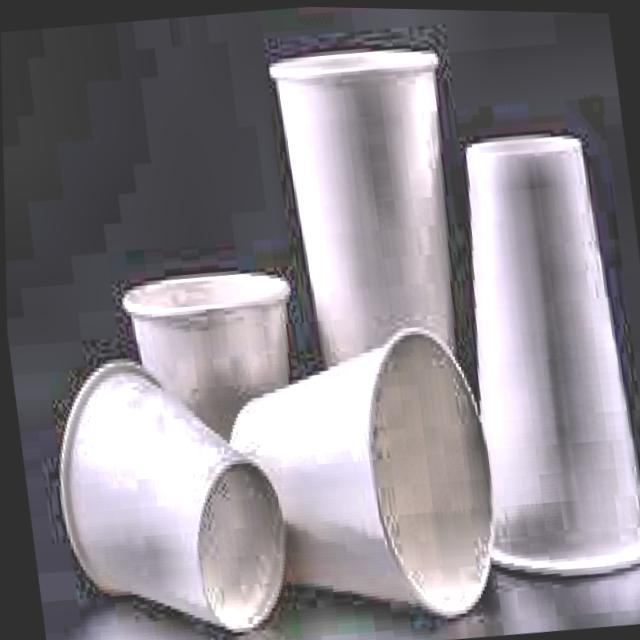Cup: (268, 38, 495, 556), (199, 308, 513, 632), (445, 124, 640, 586), (28, 338, 304, 640), (112, 254, 317, 550)
